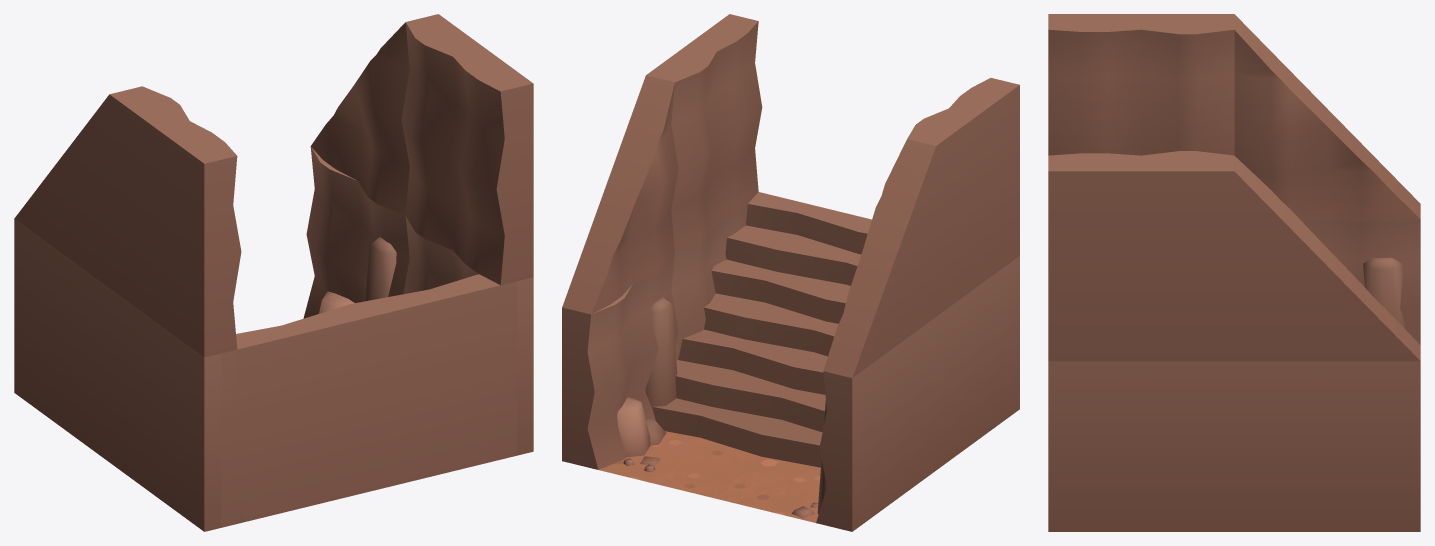
The model's file is stairs-wide.obj.
The picture shows the model from 3 angles, left to right: view 1: azimuth 30°, elevation 25°; view 2: azimuth 150°, elevation 25°; view 3: azimuth 270°, elevation 25°; orthographic projection. The views are drawn at different scales.
Visible parts, largest first — view 1: stairs-wide; view 2: stairs-wide; view 3: stairs-wide.
Boxes of the visible parts, box(x1,y1,x2,y2) form: stairs-wide: box(14, 14, 533, 531); stairs-wide: box(562, 14, 1019, 531); stairs-wide: box(1048, 14, 1420, 531).
Size of the model in its own units: 8 by 8.55 by 8.
1 material, 1 textured.
